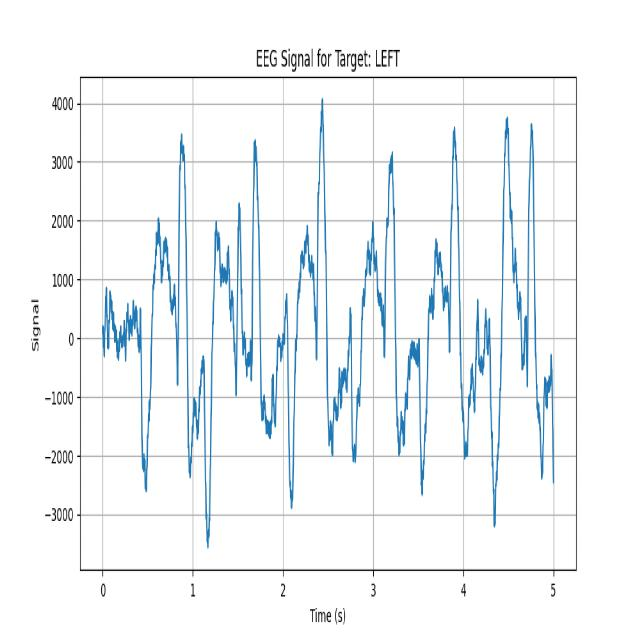LEFT: (210, 103, 291, 558), (136, 103, 210, 558), (293, 89, 365, 552), (365, 91, 432, 549), (431, 89, 479, 537)
